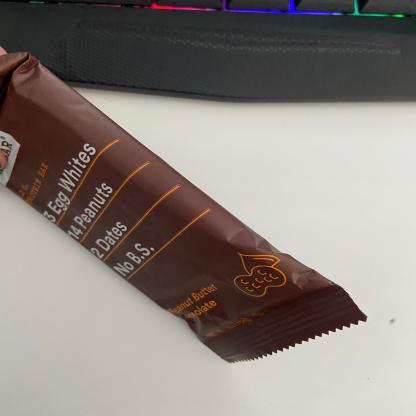ProteinBars: (1, 56, 369, 369)
